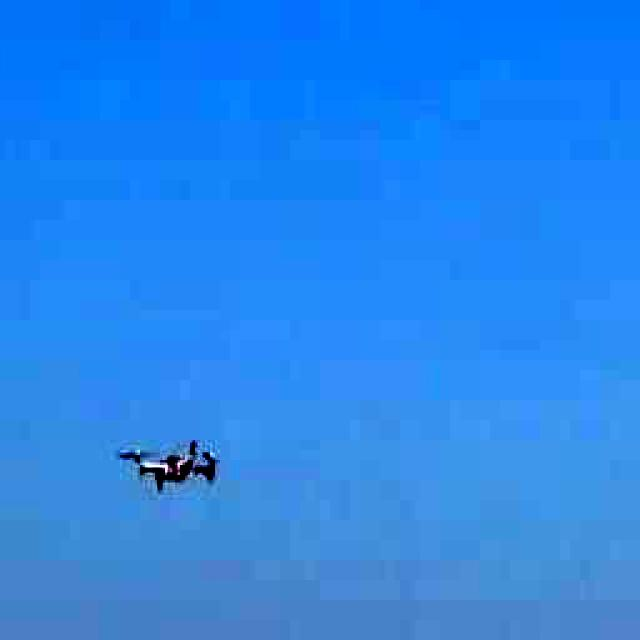bird: (119, 419, 231, 496)
